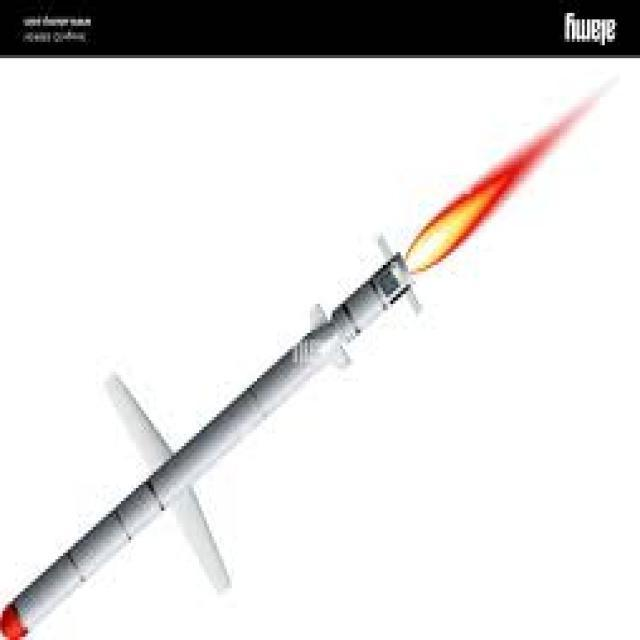Missile: (0, 249, 431, 640)
